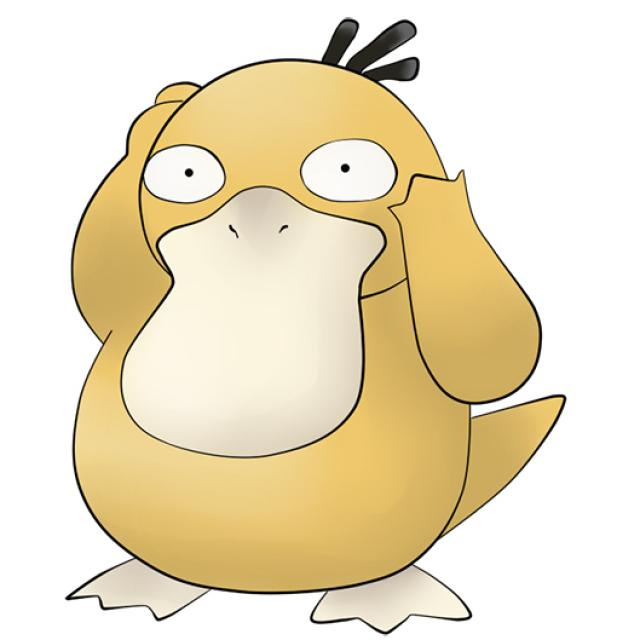Psyduck: (73, 49, 516, 620)
